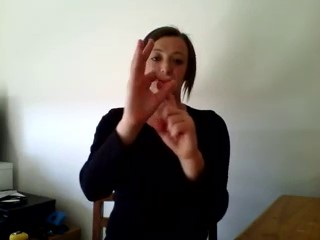Q: (115, 34, 202, 156)
